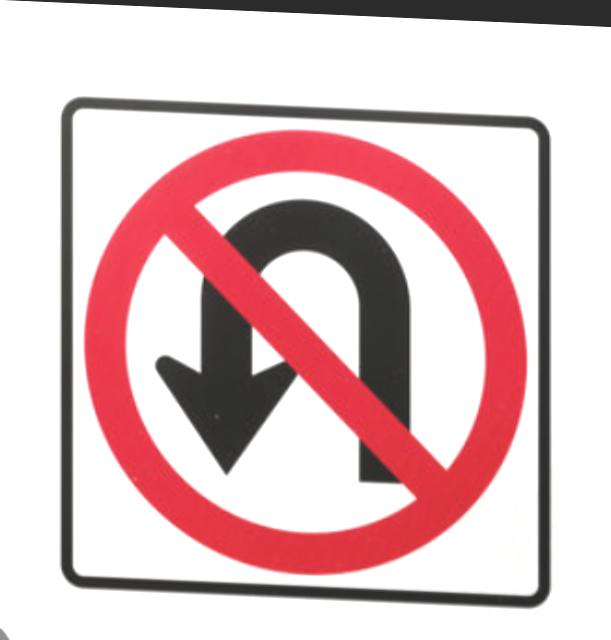not_u_turn_left: (96, 112, 540, 594)
